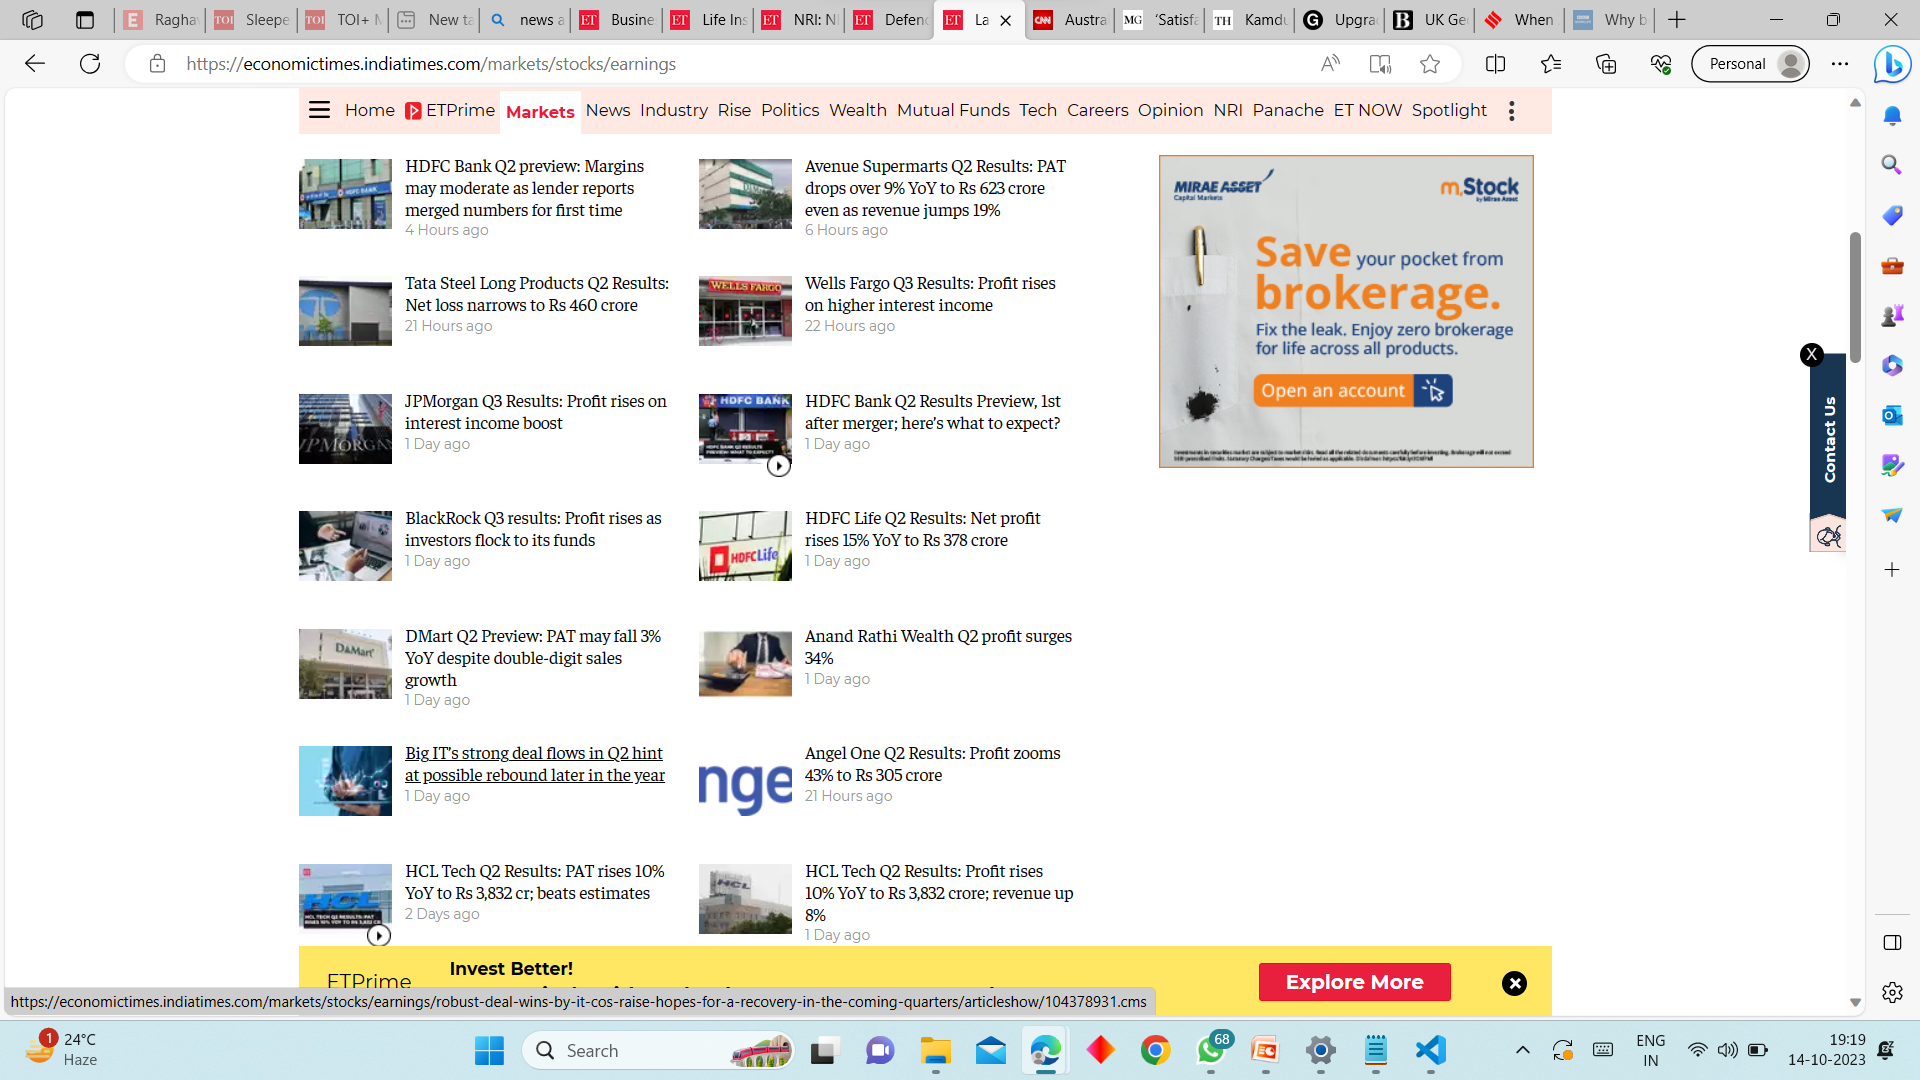Image: (1160, 163, 1532, 465), (306, 950, 1552, 1017), (297, 510, 394, 590), (695, 508, 794, 584), (695, 754, 794, 821), (297, 163, 391, 233), (302, 749, 391, 818), (700, 275, 789, 344), (302, 628, 387, 700), (297, 394, 391, 458), (704, 163, 787, 233), (695, 635, 787, 695), (302, 861, 389, 923), (302, 280, 387, 340), (704, 402, 787, 463), (304, 861, 311, 863)
Paragraph: (796, 852, 1089, 937), (798, 152, 1084, 235), (396, 159, 657, 244), (405, 852, 675, 932), (796, 624, 1109, 693), (798, 738, 1082, 812), (402, 628, 673, 702), (794, 385, 1076, 456), (400, 266, 678, 338), (794, 503, 1069, 575), (796, 271, 1071, 342), (400, 505, 675, 575), (398, 738, 675, 805), (402, 391, 689, 452), (700, 856, 789, 928)
